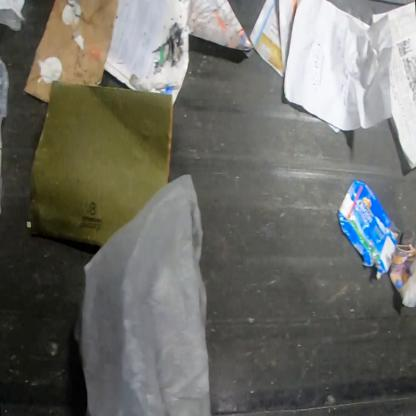cardboard: (27, 80, 174, 248), (24, 0, 118, 105), (336, 180, 401, 282)
rigid_plastic: (0, 59, 9, 200)
soft_plastic: (75, 173, 213, 415)
